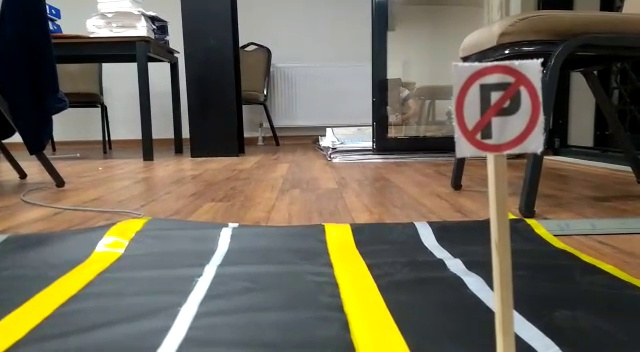park_yapilmaz: (453, 61, 543, 153)
